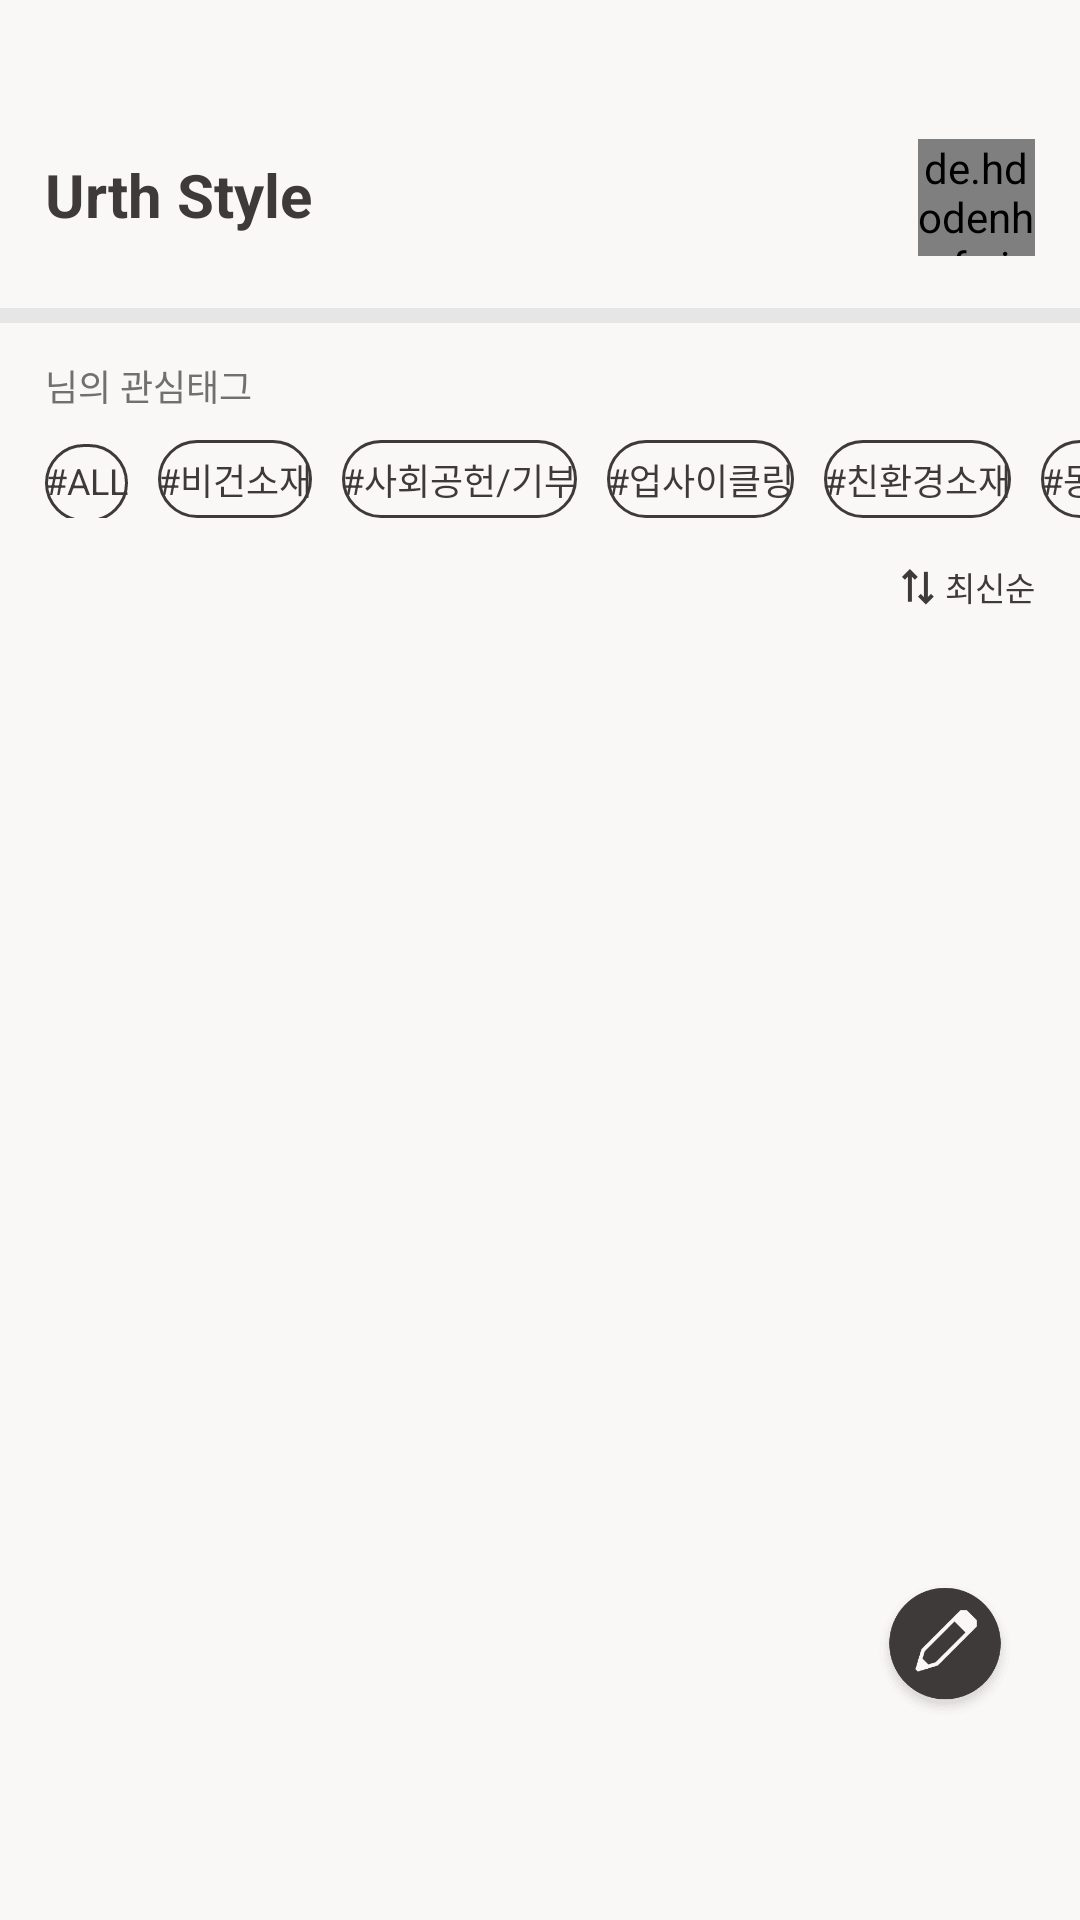

Named icons in this screenshot (1080 × 1920) and their bounding boxes, (x1, y1, x2, y2):
sort: (902, 569, 934, 605)
write post: (889, 1588, 1001, 1705)
